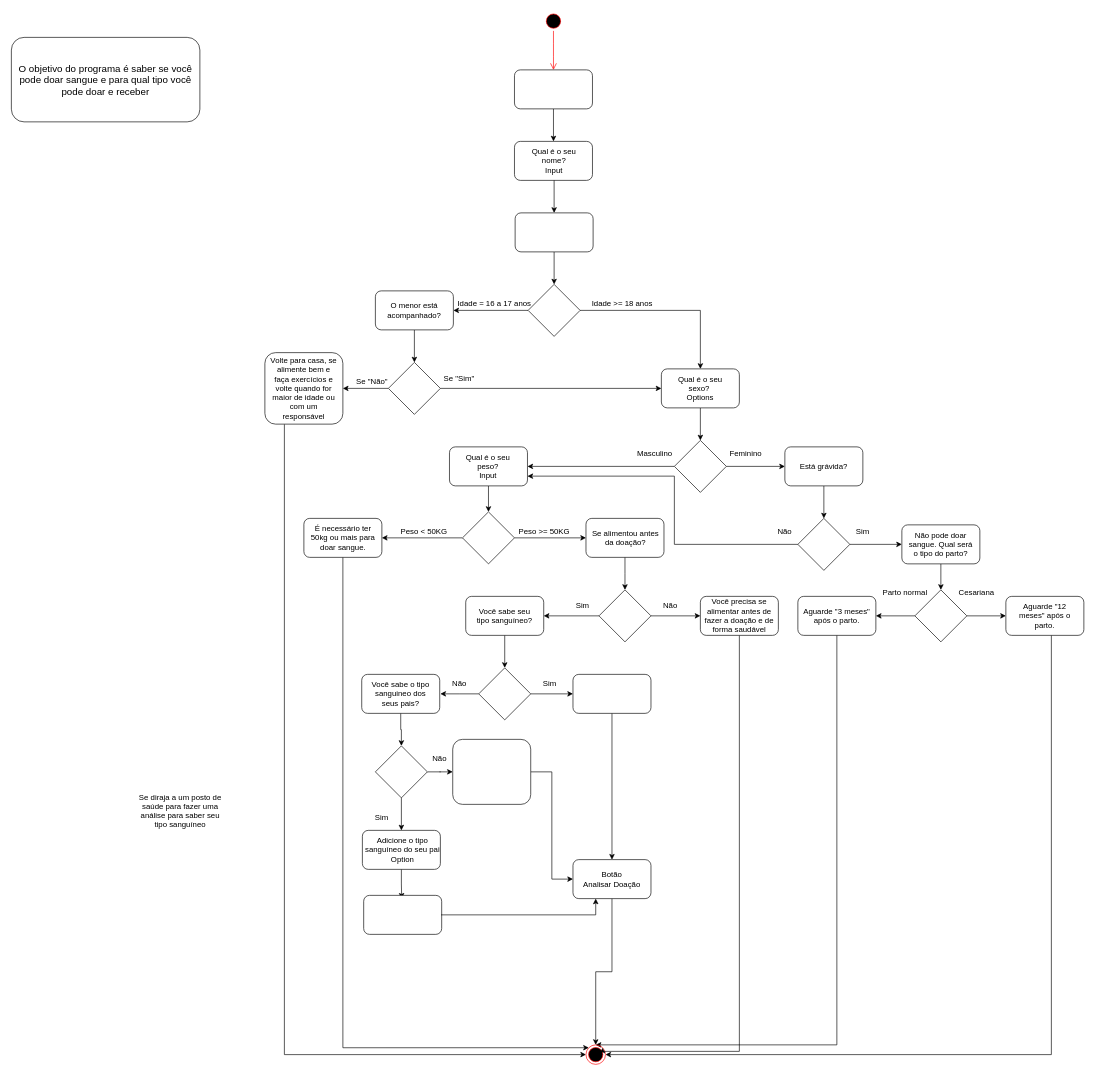
Image size: 1095x1076. Some labels were removed from this diagram. Each missing label, with the centre of its shape:
"Adicione o tipo sanguíneo do seu mãe Option" goes at point 402,914.
"Não tem problema não saber seu tipo sanguíneo, você está fazendo uma boa ação!" goes at point 491,771.
"Qual é sua idade? Input" goes at point 553,232.
"Tipos saguíneos Options" goes at point 611,693.
"Vamos doar sangue?" goes at point 553,89.
